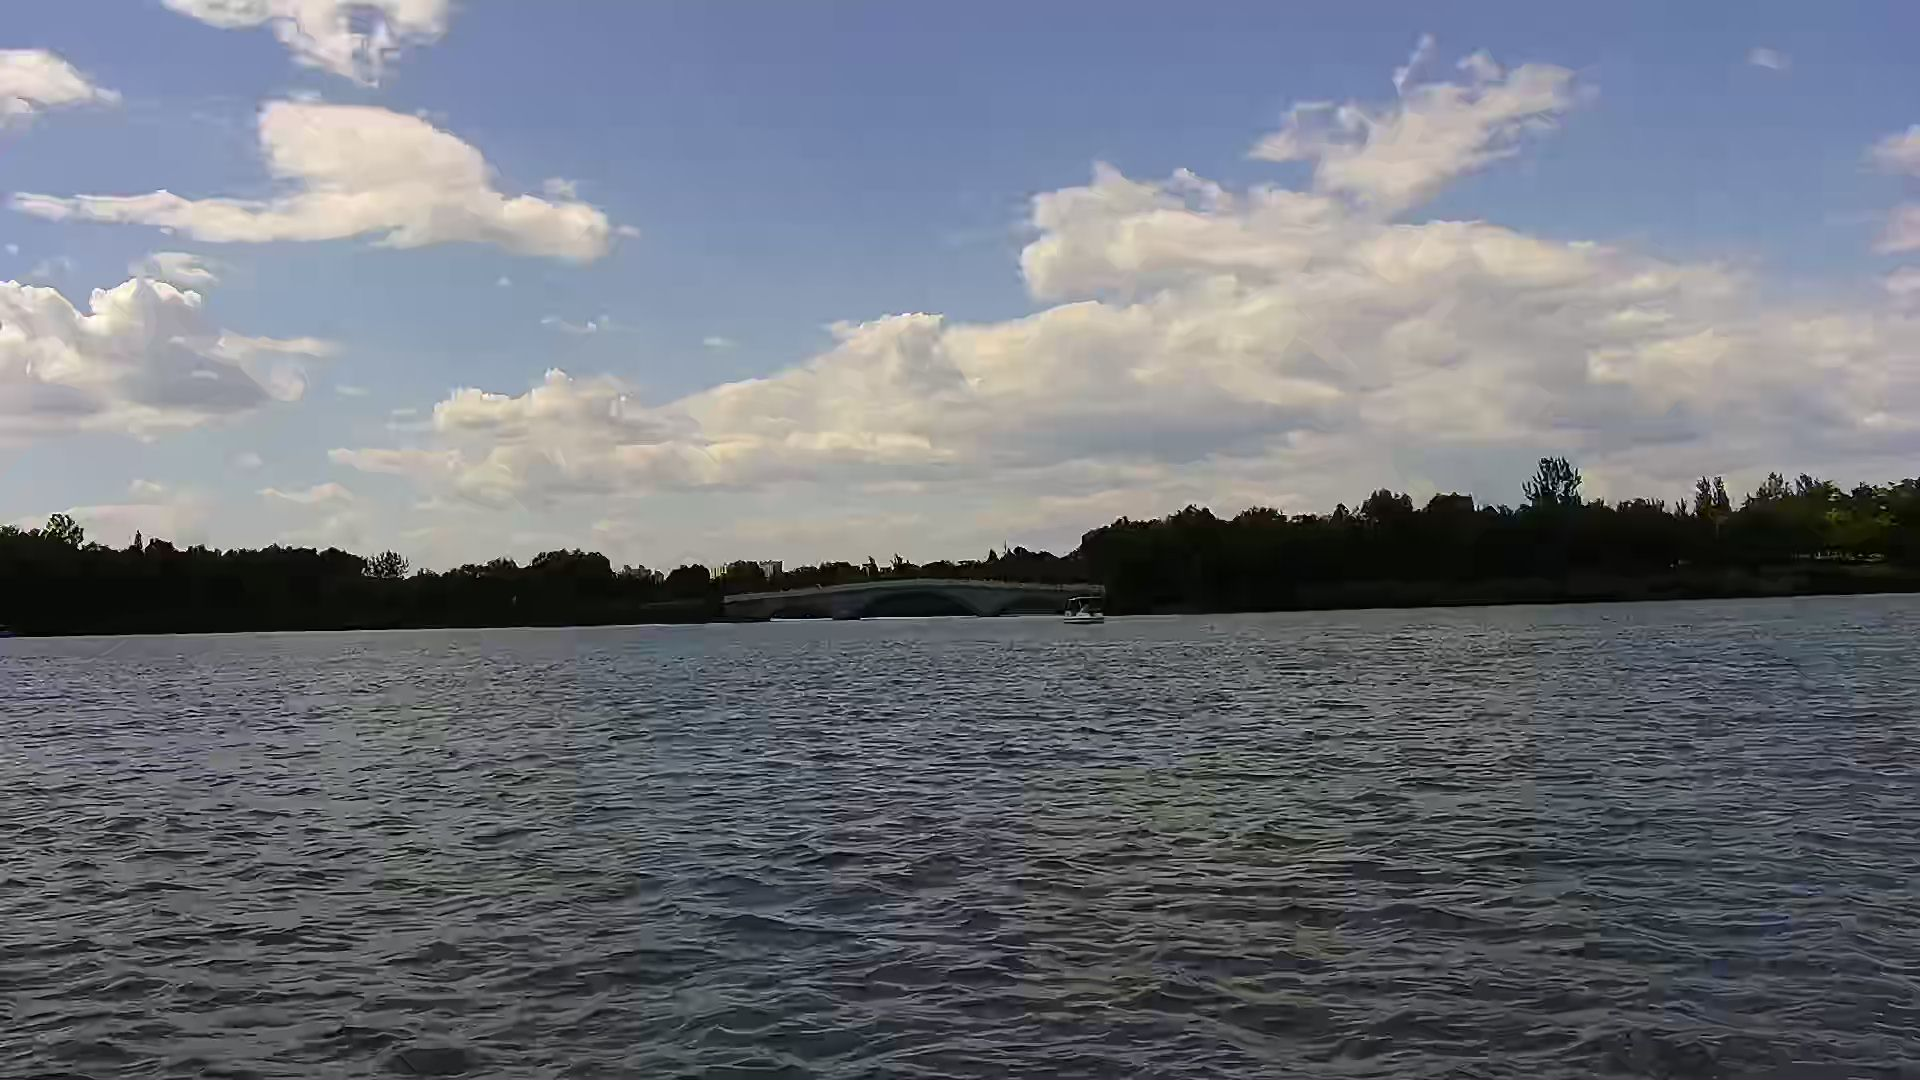boat: (1062, 593, 1109, 625)
bridge: (729, 580, 1091, 626)
